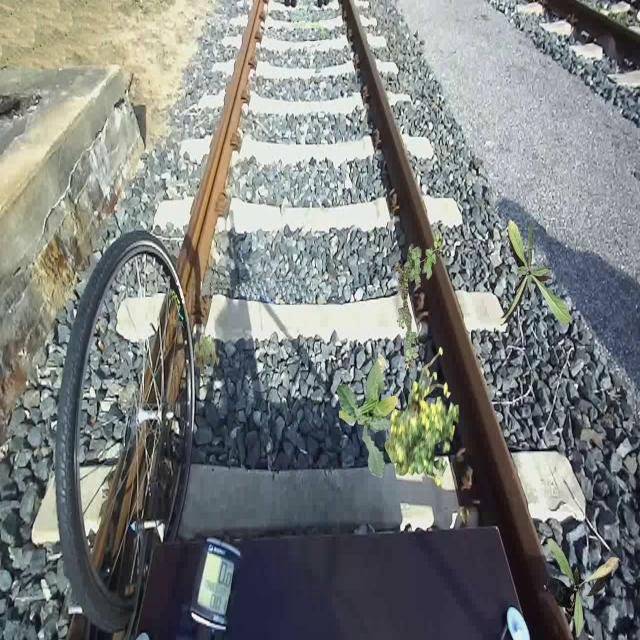Plant: (384, 347, 459, 487), (336, 354, 398, 478), (499, 218, 570, 326), (547, 538, 618, 638), (395, 233, 443, 371), (194, 332, 220, 374)
